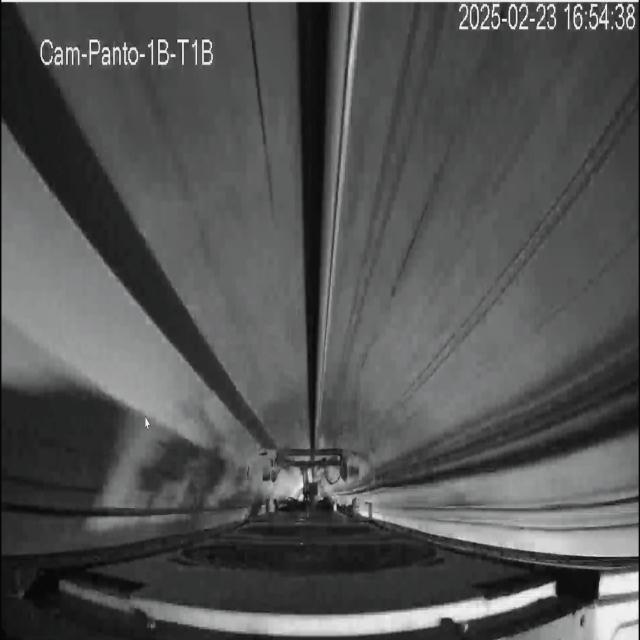Camera Stamp: (33, 27, 221, 72)
Date Stamp: (456, 3, 633, 33)
No - Spark: (253, 444, 363, 518)
